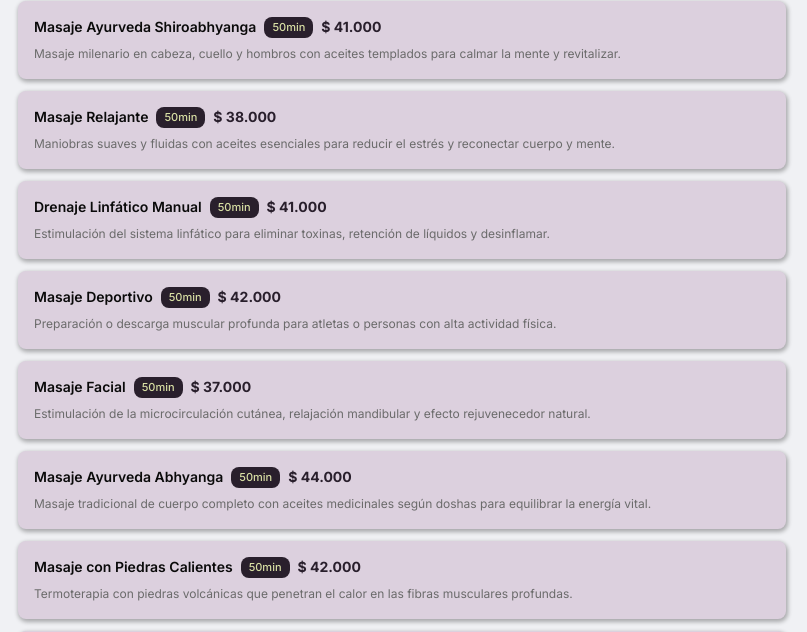
Scenario: Componente BookingFlow (Interacción de Usuario) › Al seleccionar un servicio, debe pasar al paso 2 y mostrar solo los profesionales habilitados
(page scrolled)
Click the heading "Masaje Deportivo".
click(93, 297)  # box x1=34 y1=287 x2=153 y2=307
(page scrolled)
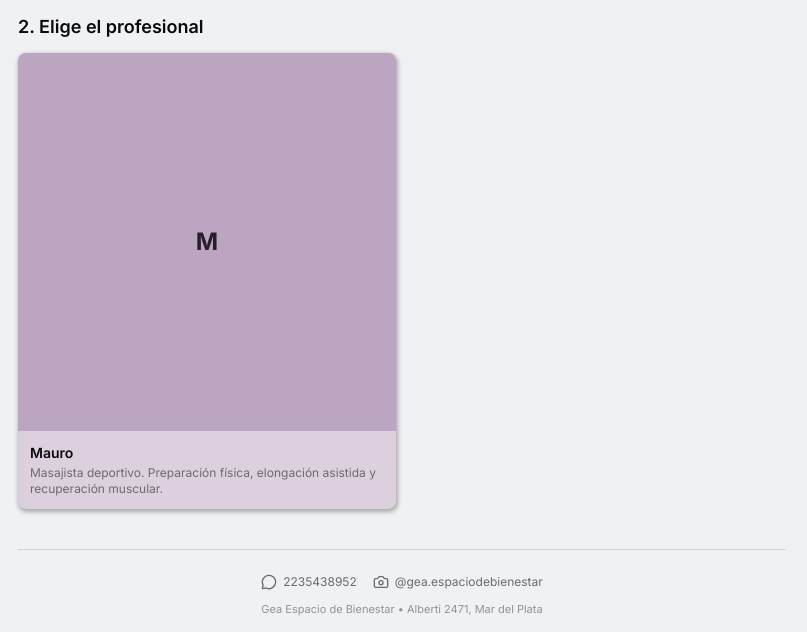
Result: the heading "2. Elige el profesional" is shown at x1=18 y1=16 x2=204 y2=37
Result: the heading "Mauro" is shown at x1=30 y1=444 x2=73 y2=461
